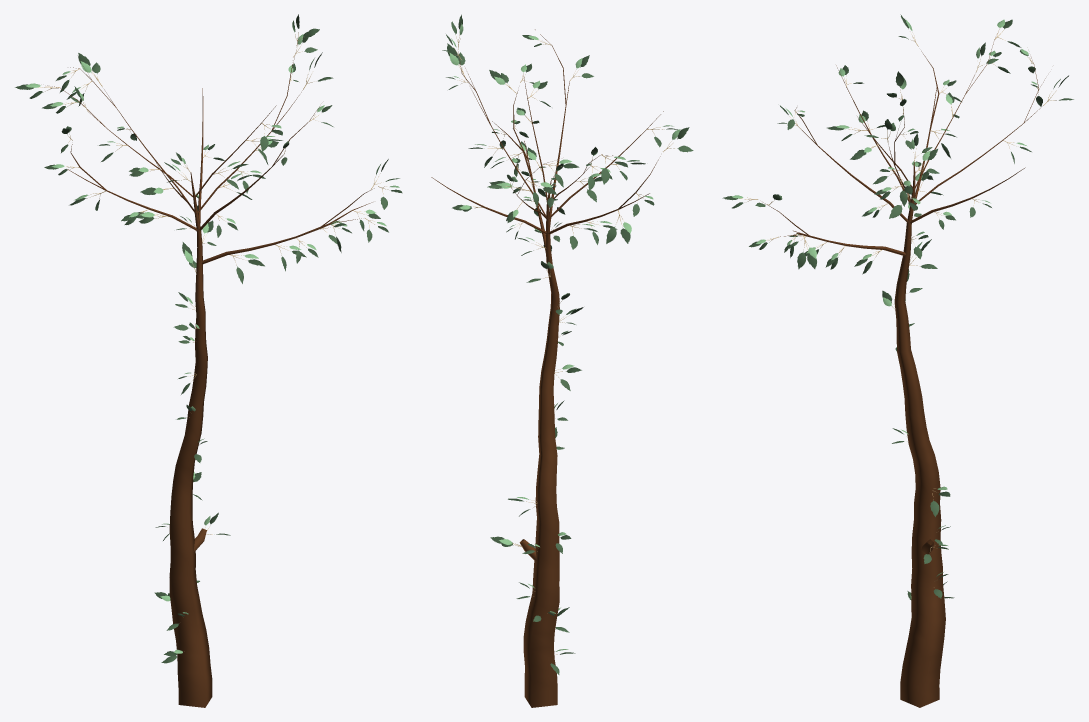
Rendered from Tree30.fbx.
3 renders of one model, left to right at view 1: azimuth 30°, elevation 25°; view 2: azimuth 150°, elevation 25°; view 3: azimuth 270°, elevation 25°, orthographic. The views are drawn at different scales.
Parts seen in each view (by area): view 1: Árbol.002; view 2: Árbol.002; view 3: Árbol.002.
Part boxes in pixels (box(x1,y1,x2,y2)): Árbol.002: box(47, 56, 374, 707); Árbol.002: box(431, 29, 663, 707); Árbol.002: box(763, 33, 1045, 707).
Bounding box in the file's own units: 588 × 1402 × 665.
